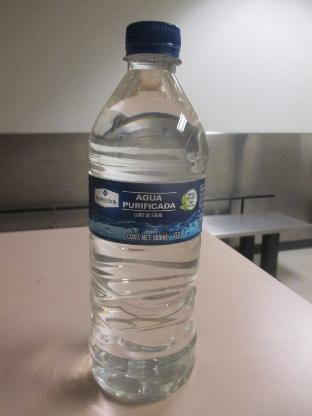Plastic Bottle: (76, 8, 224, 410)
